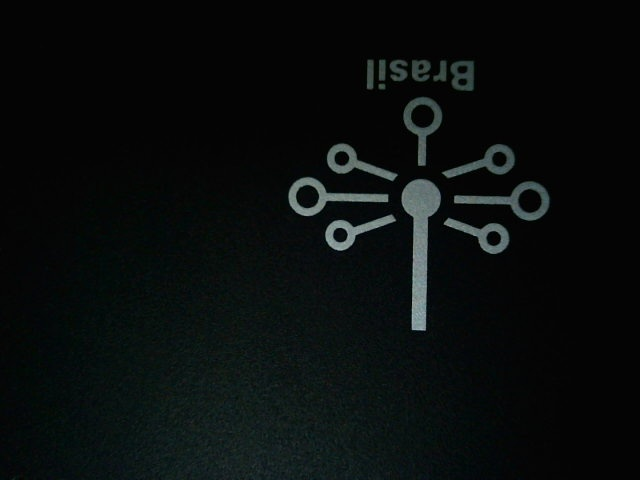BG_Brasil: (263, 39, 568, 356)
